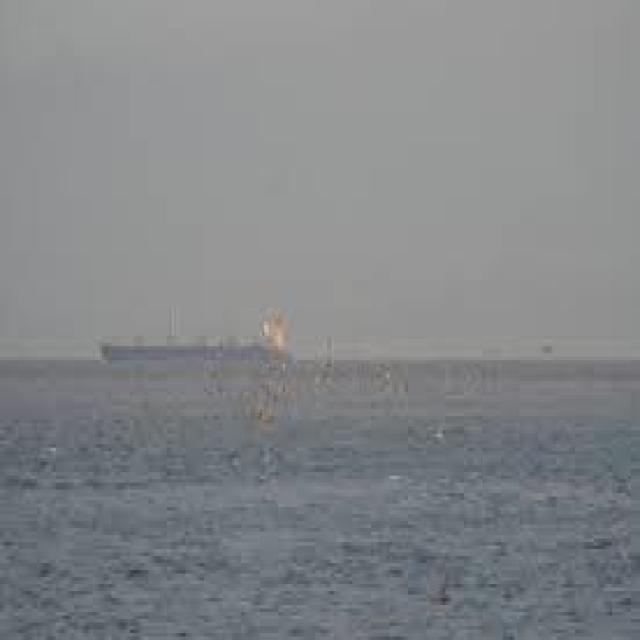cargoship: (96, 305, 290, 366)
